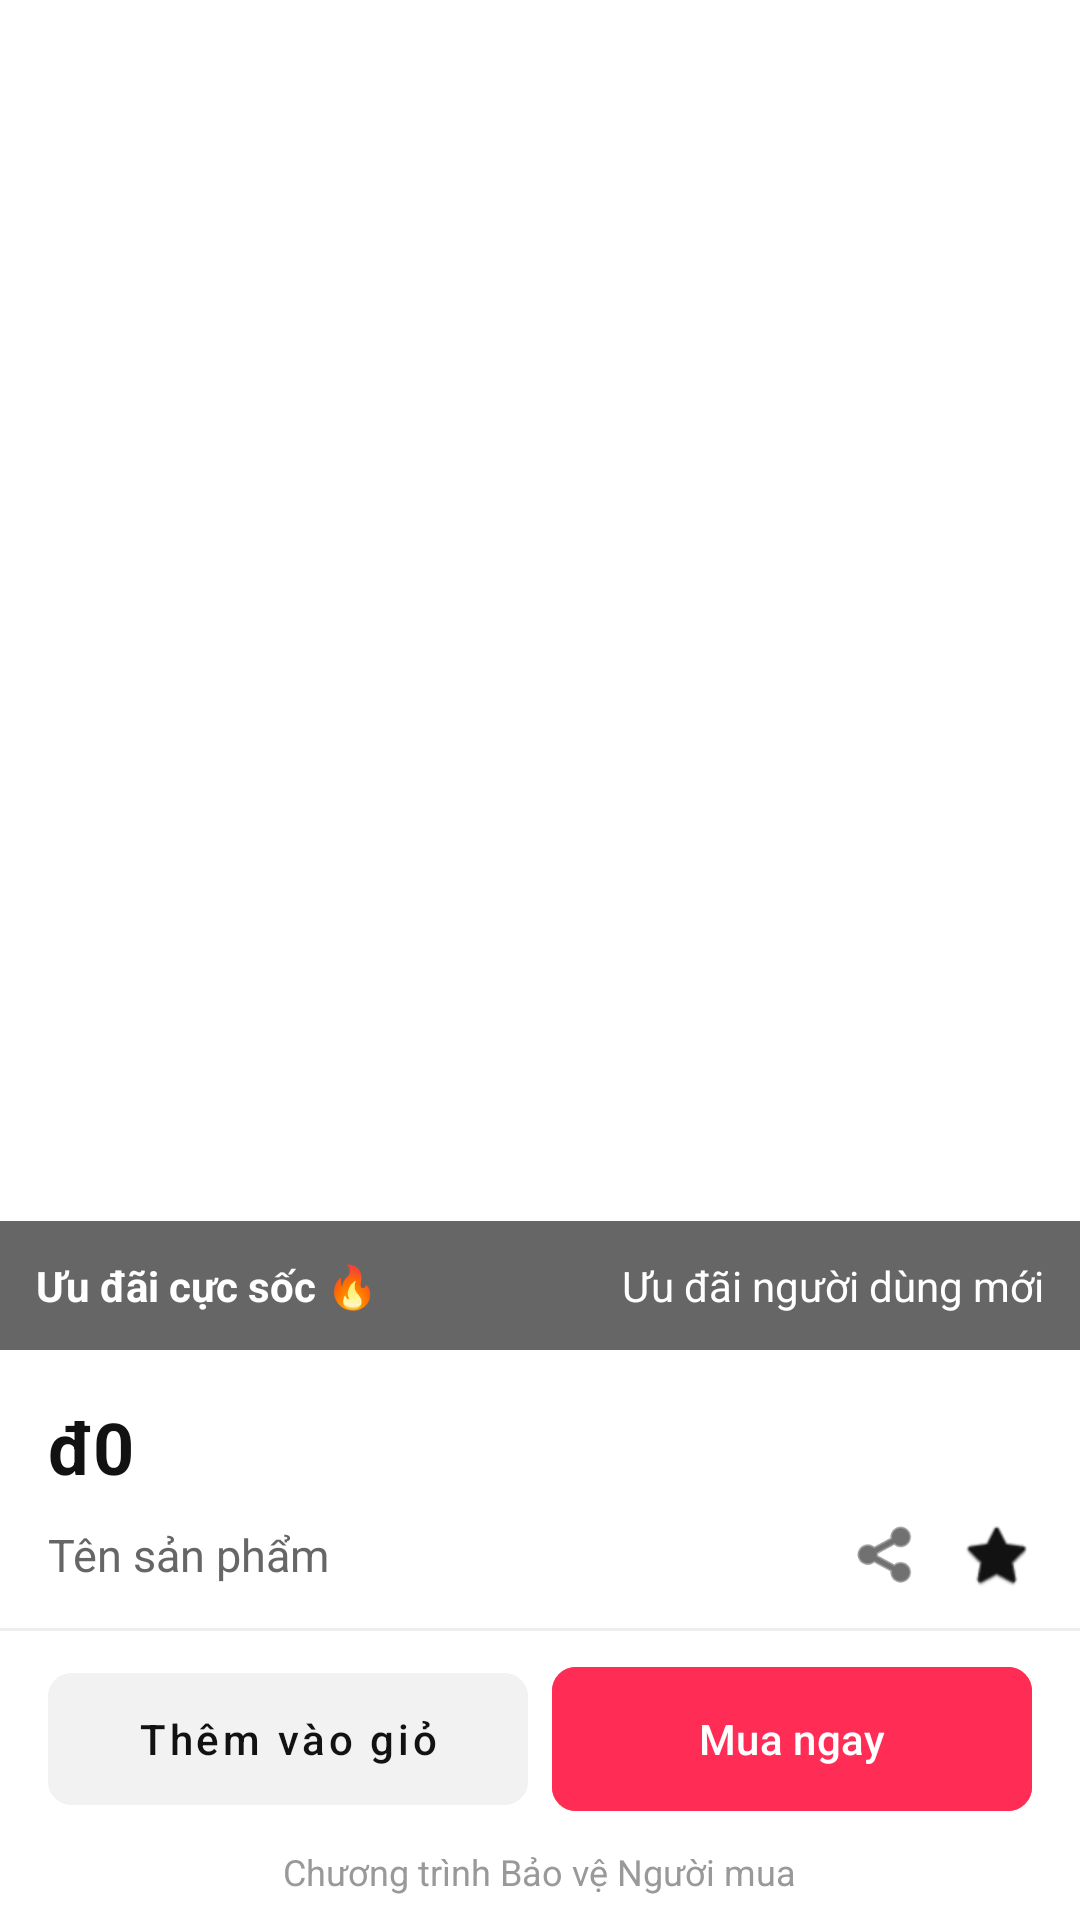

Screen size 1080px x 1920px. Icon name, then its box in pixels as (x1=x1, y1=y1, x2=x2, y2=y2):
share: (x1=857, y1=1526, x2=911, y2=1583)
star: (x1=966, y1=1526, x2=1027, y2=1585)
